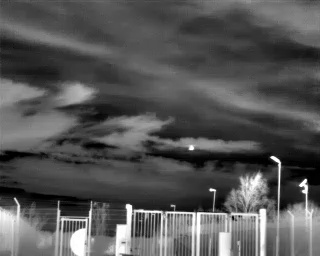HELICOPTER: (185, 141, 198, 155)
